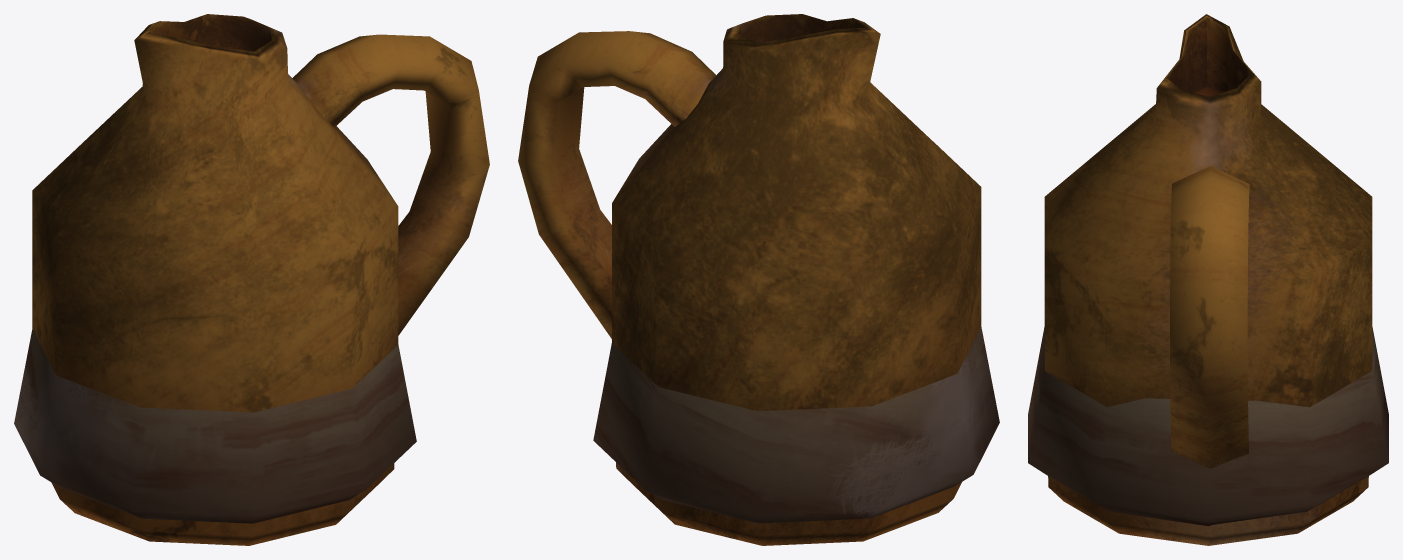
File: SM_Cluster_Kitchen_02.fbx
3 views of the same model, side by side, from view 1: azimuth 30°, elevation 25°; view 2: azimuth 150°, elevation 25°; view 3: azimuth 270°, elevation 25° (orthographic). The views are drawn at different scales.
Visible parts, largest first — view 1: Jar_Huge_Low, Jar_Medium_Low; view 2: Jar_Huge_Low, Jar_Medium_Low; view 3: Jar_Huge_Low, Jar_Medium_Low.
Part boxes in pixels (<box>): Jar_Huge_Low: <box>32,14,489,545</box>; Jar_Medium_Low: <box>14,328,416,523</box>; Jar_Huge_Low: <box>518,14,981,545</box>; Jar_Medium_Low: <box>593,327,999,523</box>; Jar_Huge_Low: <box>1044,14,1372,545</box>; Jar_Medium_Low: <box>1028,327,1388,526</box>.
Bounding box in the file's own units: 52.43 × 51.95 × 39.21.
